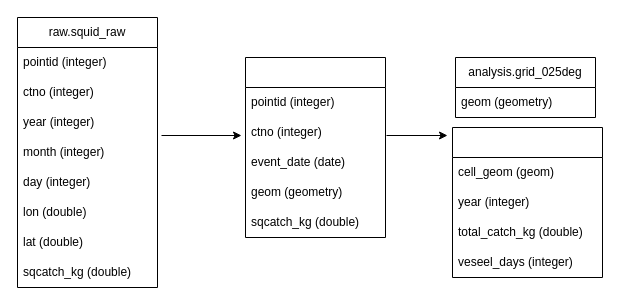
Image size: 620x305. Some labels were removed from this diagram. Each missing label, with the box of its shape:
analysis.squid_hotspots: (452, 126, 602, 278)
core.squid_events: (244, 56, 386, 238)
